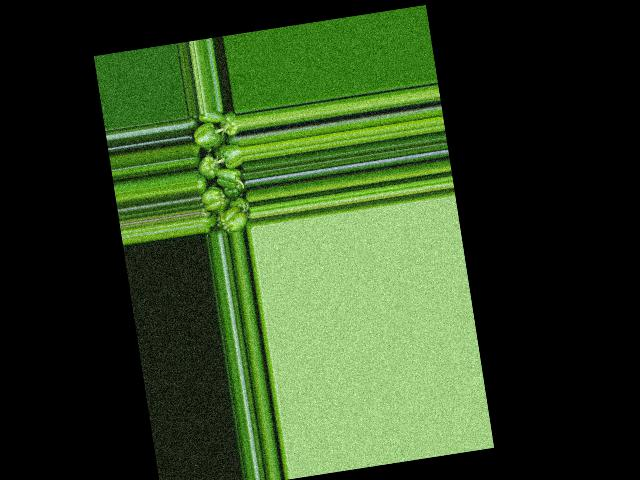bell_pepper: (186, 110, 252, 237)
